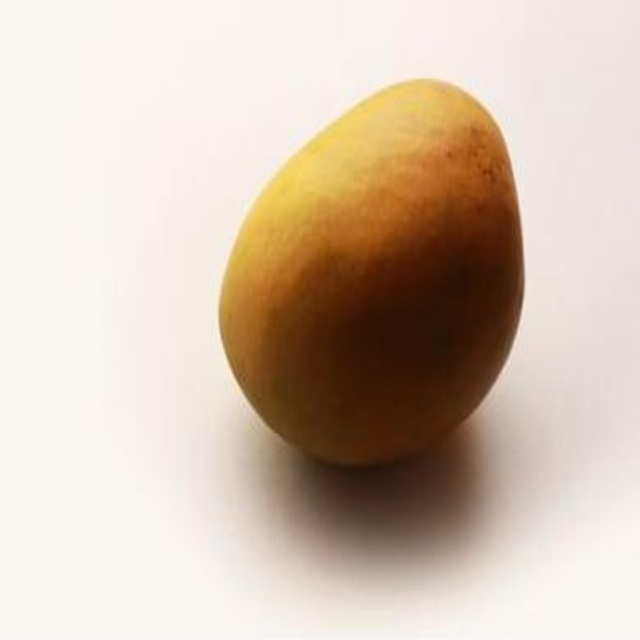mango: (218, 76, 522, 476)
